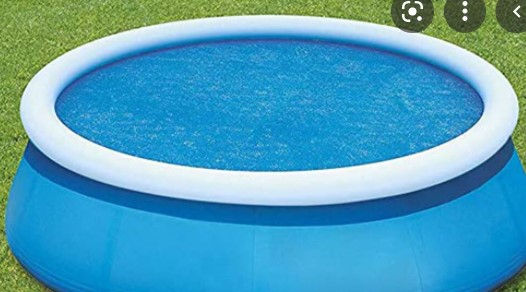havuz: (5, 15, 526, 291)
